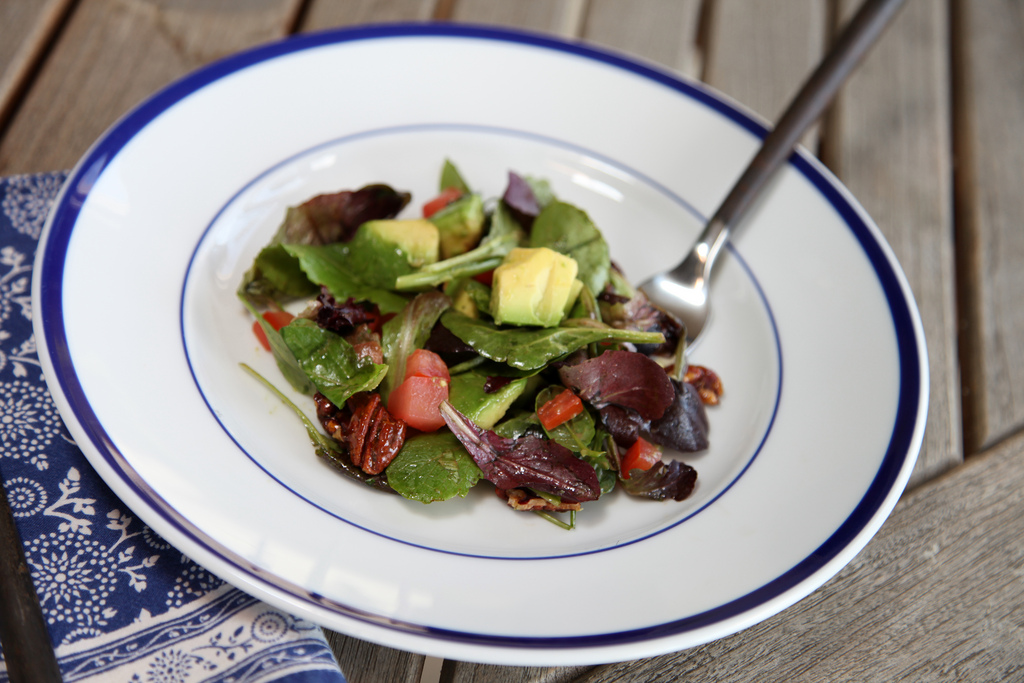chopped lettuce: (270, 198, 698, 527)
